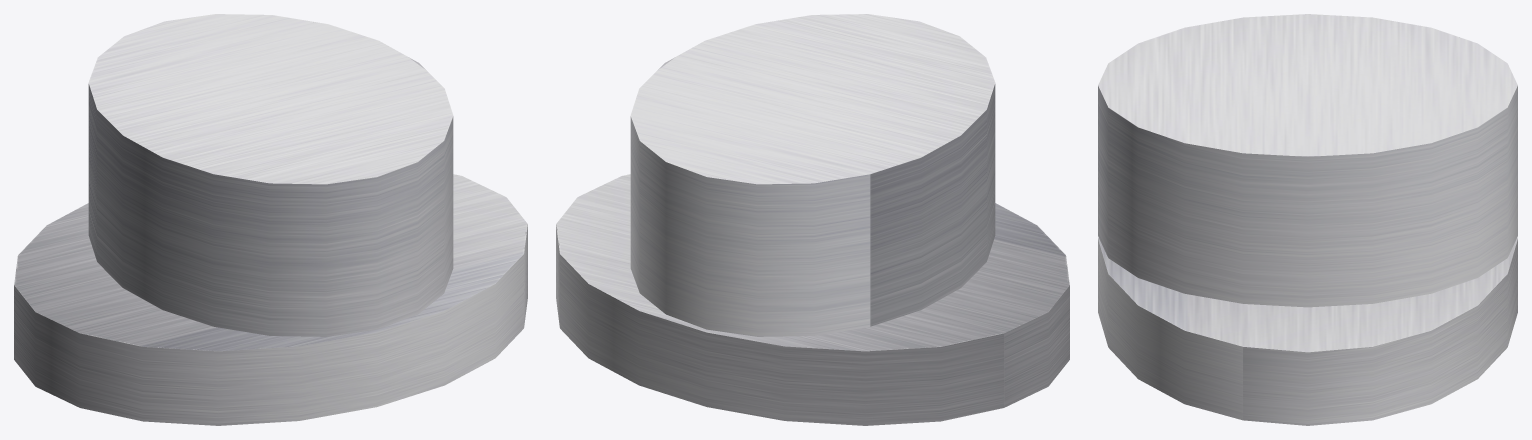
Rendered from extract01.fbx.
3 renders of one model, left to right at view 1: azimuth 30°, elevation 25°; view 2: azimuth 150°, elevation 25°; view 3: azimuth 270°, elevation 25°, orthographic.
Visible parts, largest first — view 1: group2; view 2: group2; view 3: group2.
Part boxes in pixels (box(x1,y1,x2,y2)): group2: box(14, 14, 527, 425); group2: box(556, 14, 1069, 425); group2: box(1098, 14, 1517, 425).
Bounding box in the file's own units: 9.29 × 4.33 × 7.26.
Materials: 1 (1 with a texture image).
